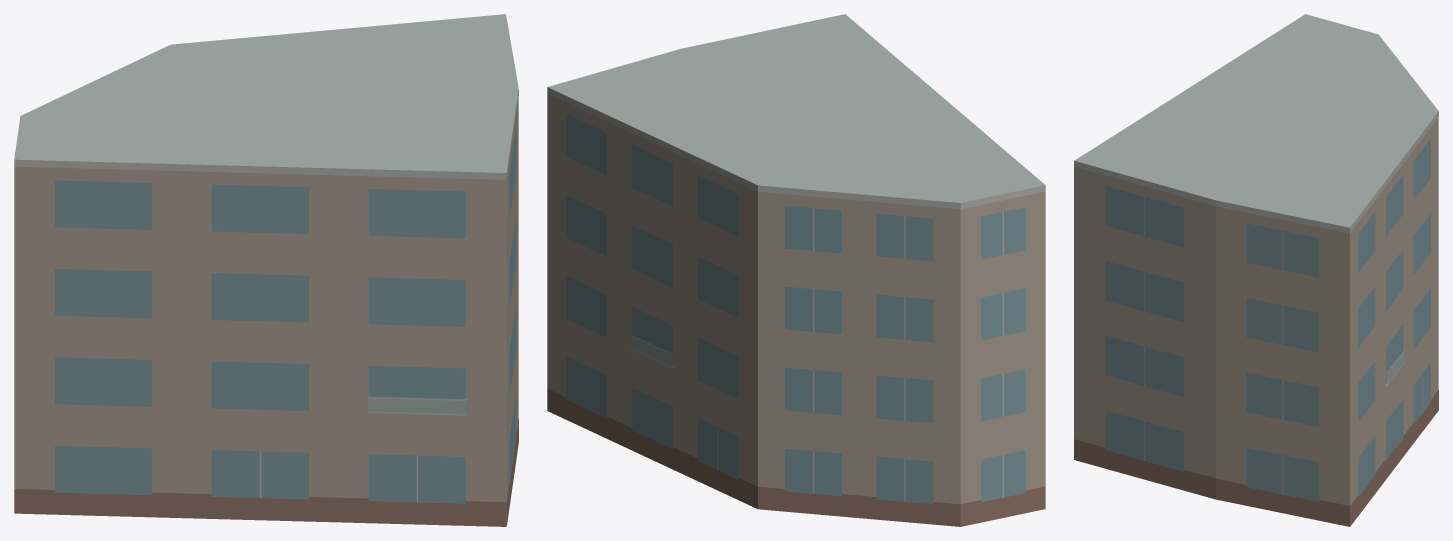
The model's file is survey-upis-33022712.glb.
The picture shows the model from 3 angles, left to right: view 1: azimuth 30°, elevation 25°; view 2: azimuth 150°, elevation 25°; view 3: azimuth 270°, elevation 25°; orthographic projection. The views are drawn at different scales.
Parts seen in each view (by area): view 1: survey-upis-33022712.tmp; view 2: survey-upis-33022712.tmp; view 3: survey-upis-33022712.tmp.
Boxes of the visible parts, left/top/right/bottom form: survey-upis-33022712.tmp: left=14, top=14, right=518, bottom=526; survey-upis-33022712.tmp: left=547, top=14, right=1045, bottom=526; survey-upis-33022712.tmp: left=1074, top=14, right=1438, bottom=526.
Size of the model in its own units: 19.29 by 12.58 by 13.91.
